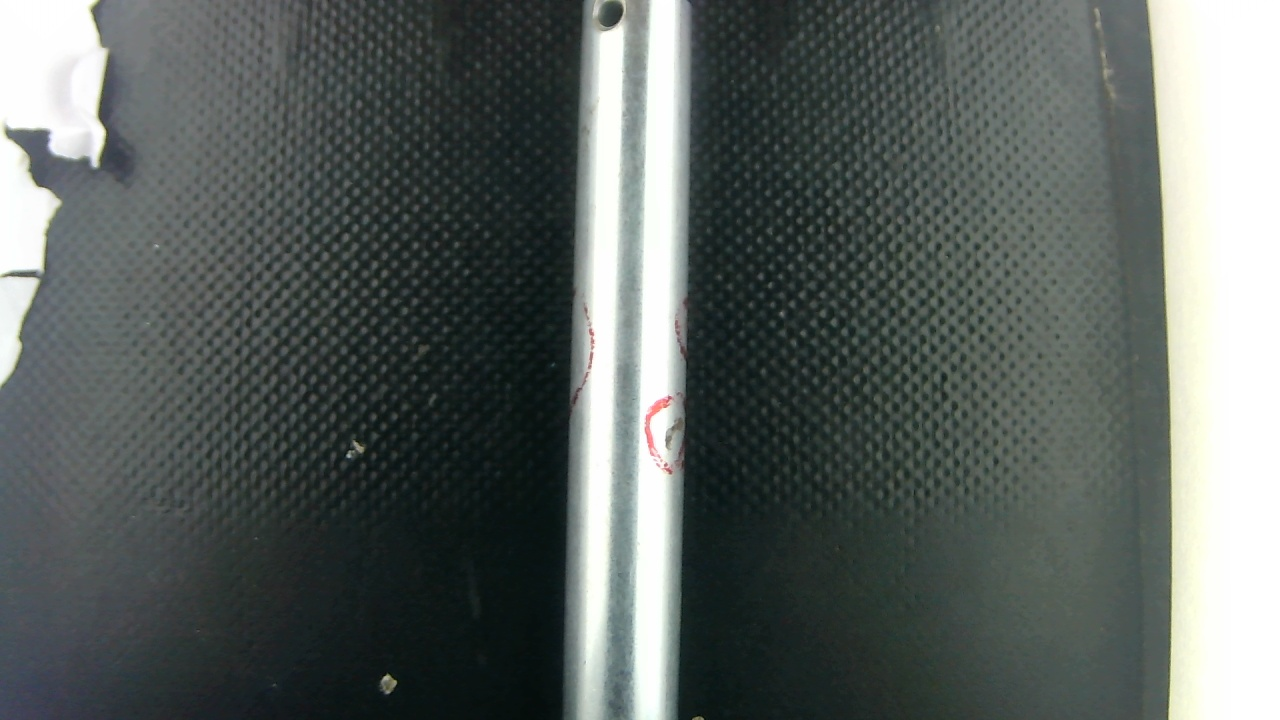rust_pin: (659, 414, 691, 457)
